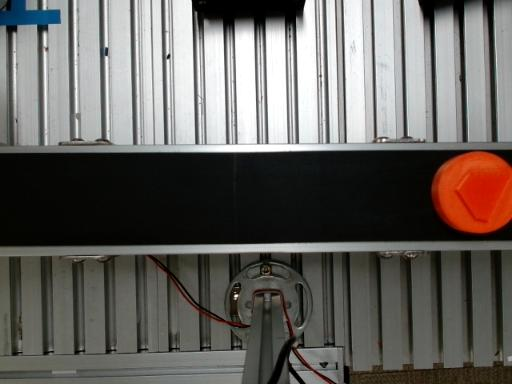Not_Square: (456, 168, 511, 221)
Orange_Waper: (431, 151, 511, 233)
